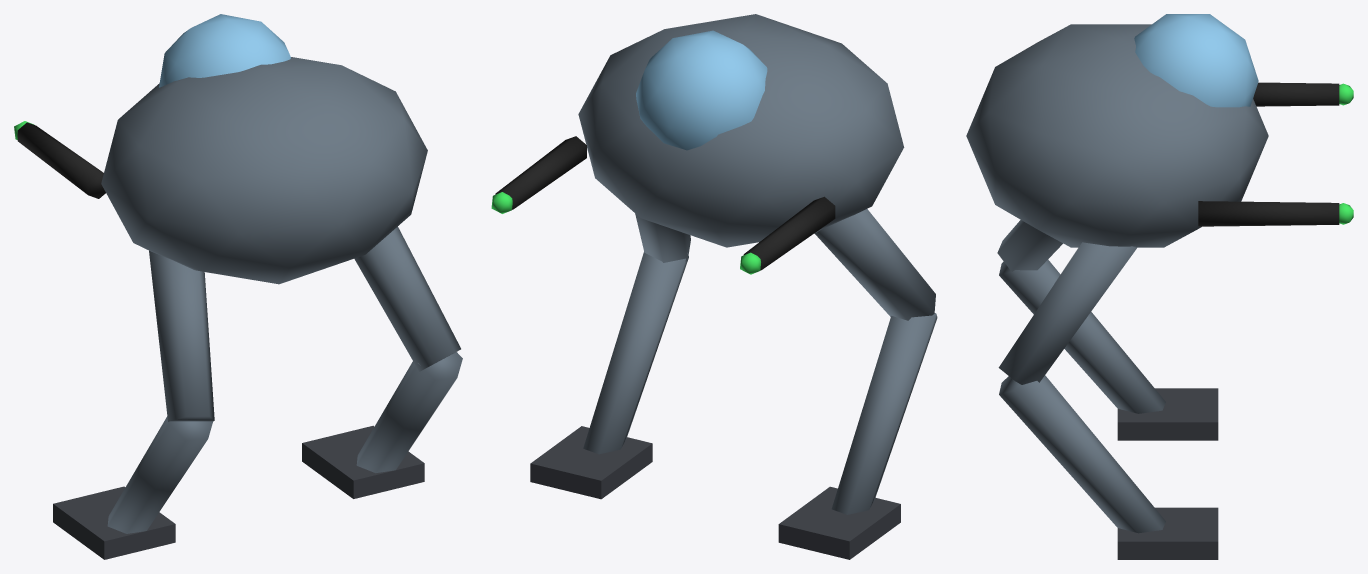
File: martian_walker.glb
3 views of the same model, side by side, from view 1: azimuth 30°, elevation 25°; view 2: azimuth 150°, elevation 25°; view 3: azimuth 270°, elevation 25° (orthographic).
Visible parts, largest first — view 1: martian_walker; view 2: martian_walker; view 3: martian_walker.
Boxes of the visible parts, bbox=[...] form: martian_walker: bbox=[14, 14, 462, 559]; martian_walker: bbox=[491, 14, 937, 559]; martian_walker: bbox=[966, 14, 1353, 559].
Size of the model in its own units: 1.8 by 2.61 by 1.92.
